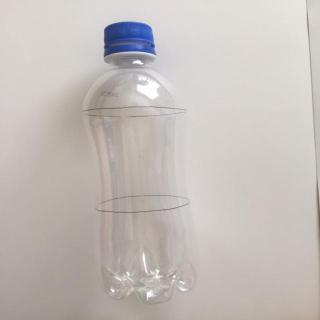Anorganik: (75, 16, 213, 303)
